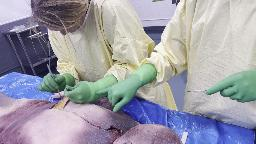scalpel: (46, 64, 62, 100)
